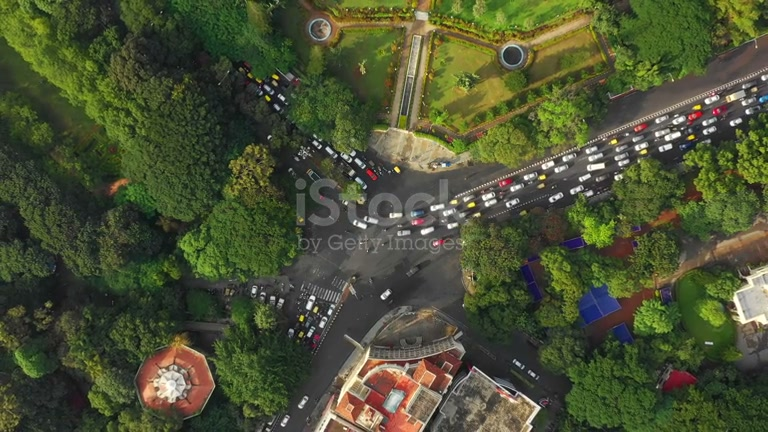bus: (317, 305, 468, 430)
